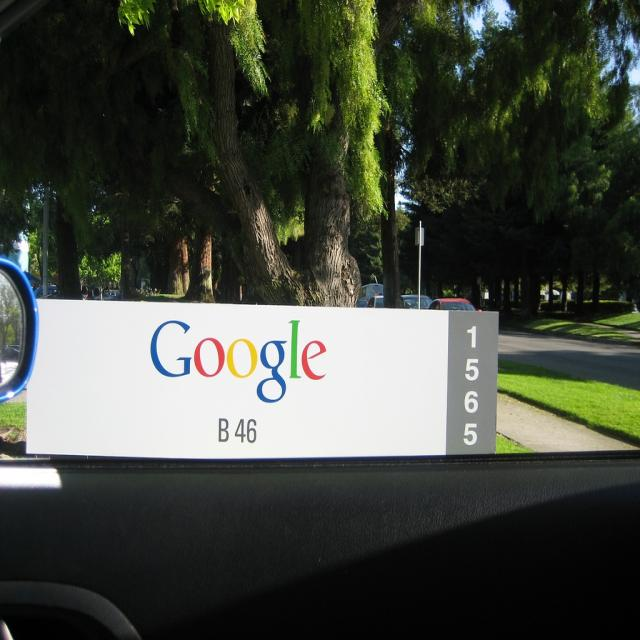google: (148, 316, 333, 408)
